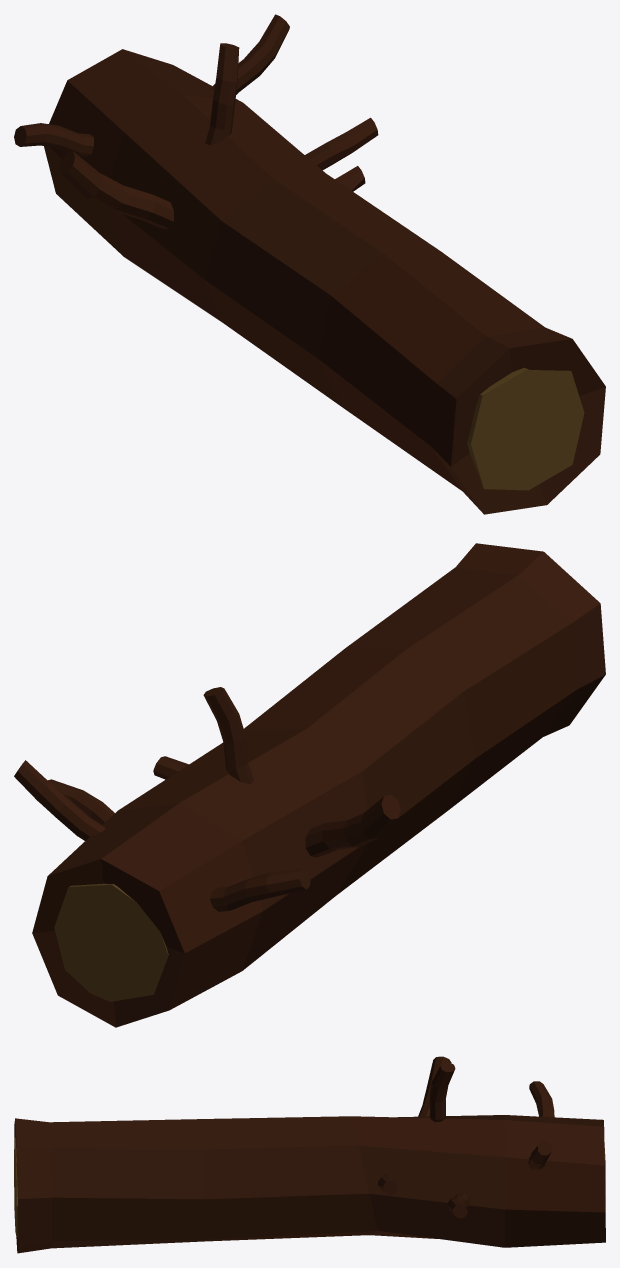
File: Trunk2.fbx
3 views of the same model, one above another, from view 1: azimuth 30°, elevation 25°; view 2: azimuth 150°, elevation 25°; view 3: azimuth 270°, elevation 25° (orthographic). The views are drawn at different scales.
Parts seen in each view (by area): view 1: Cube; view 2: Cube; view 3: Cube.
Boxes of the visible parts, x1,y1,x2,y2 form: Cube: (14,14,605,514); Cube: (14,543,605,1027); Cube: (14,1056,605,1253).
Size of the model in its own units: 548 by 399 by 1184.
